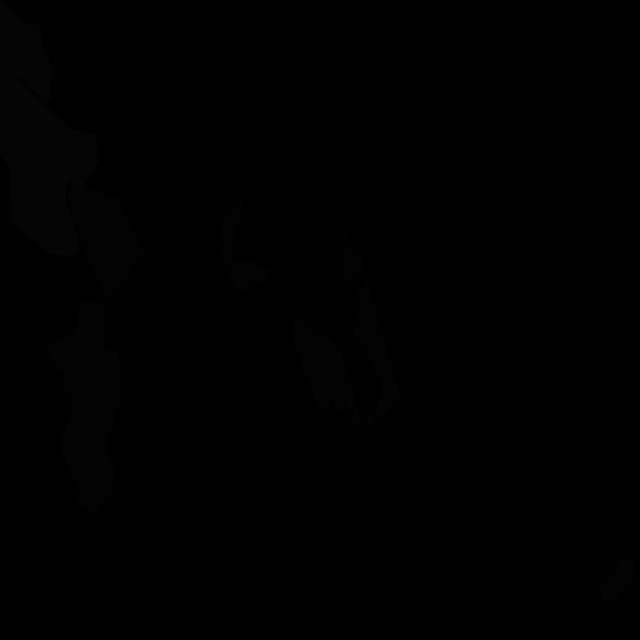cardboard: (291, 227, 402, 433), (48, 300, 122, 515), (66, 182, 144, 305), (218, 195, 271, 295), (600, 558, 638, 608)
soft_plastic: (0, 61, 99, 257)
